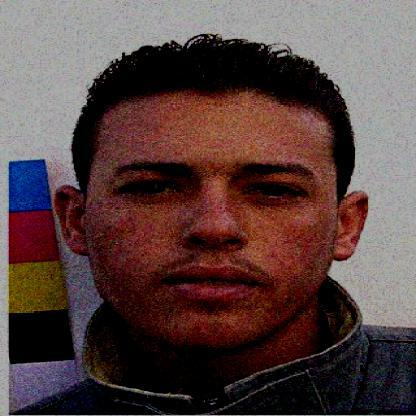without_mask: (107, 153, 334, 331)
